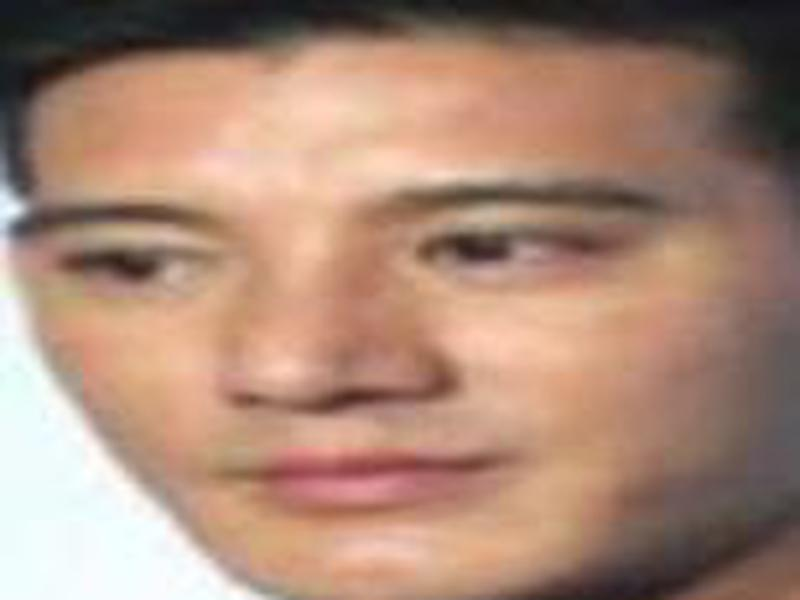without_mask: (12, 119, 783, 600)
